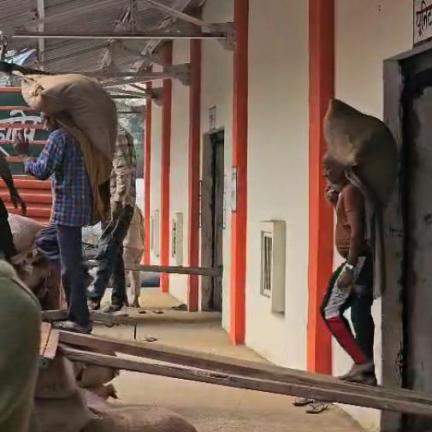Zone-Counting: (14, 74, 116, 332), (320, 98, 396, 385)
